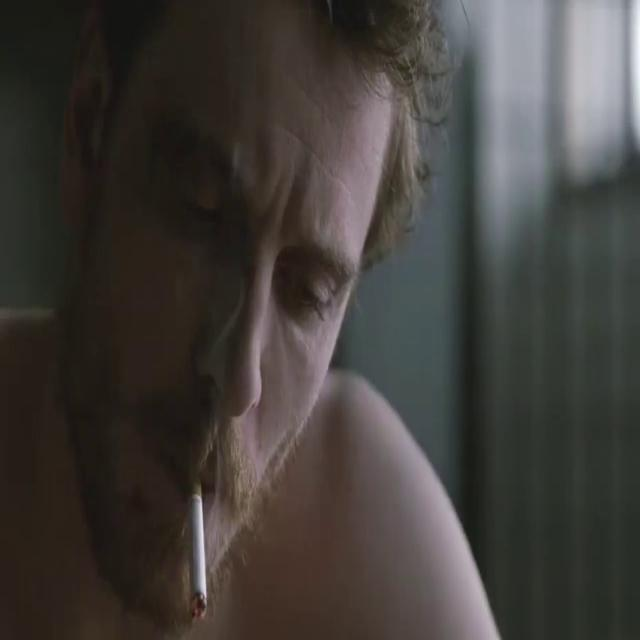Smooking: (184, 480, 226, 634)
